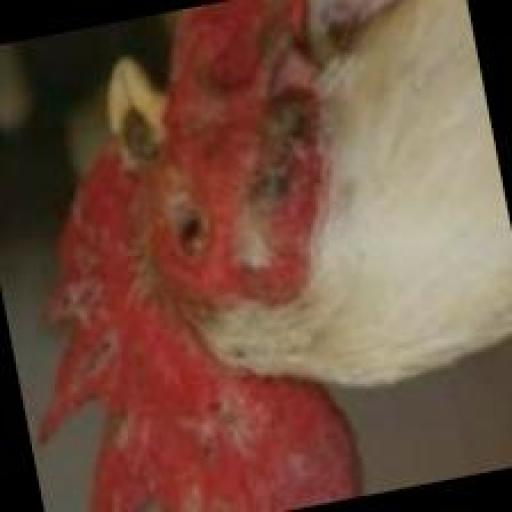disease: (39, 373, 346, 505), (59, 148, 219, 372), (203, 58, 336, 236)
